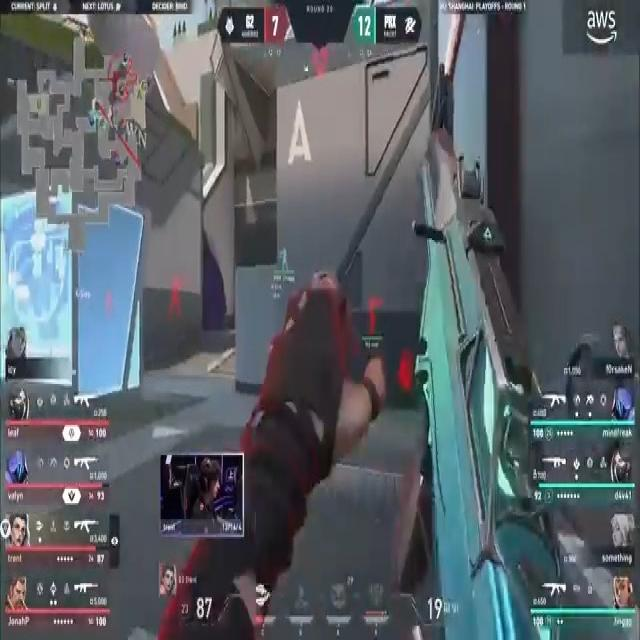ally behind wall: (279, 245, 291, 272)
enemy behind wall: (165, 271, 191, 320), (365, 294, 385, 336)
